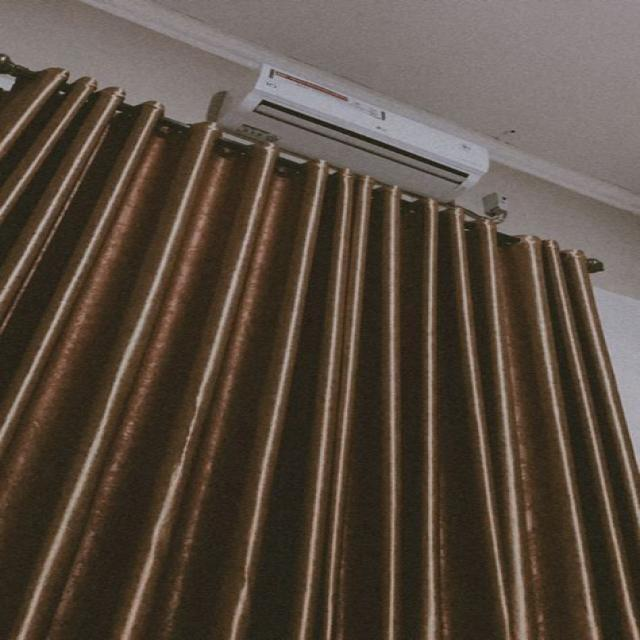AC: (215, 61, 488, 200)
